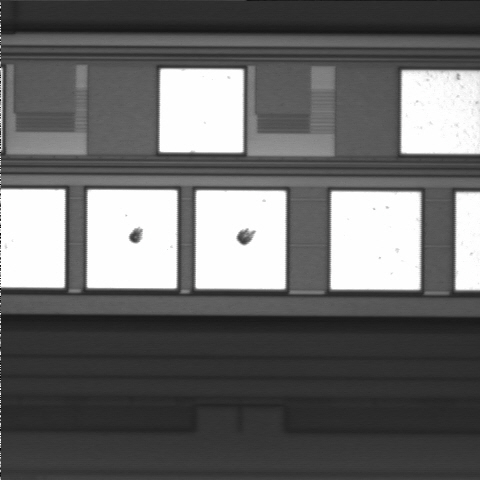pad: (196, 190, 286, 289), (87, 190, 177, 288), (331, 191, 420, 290), (160, 69, 243, 153)
